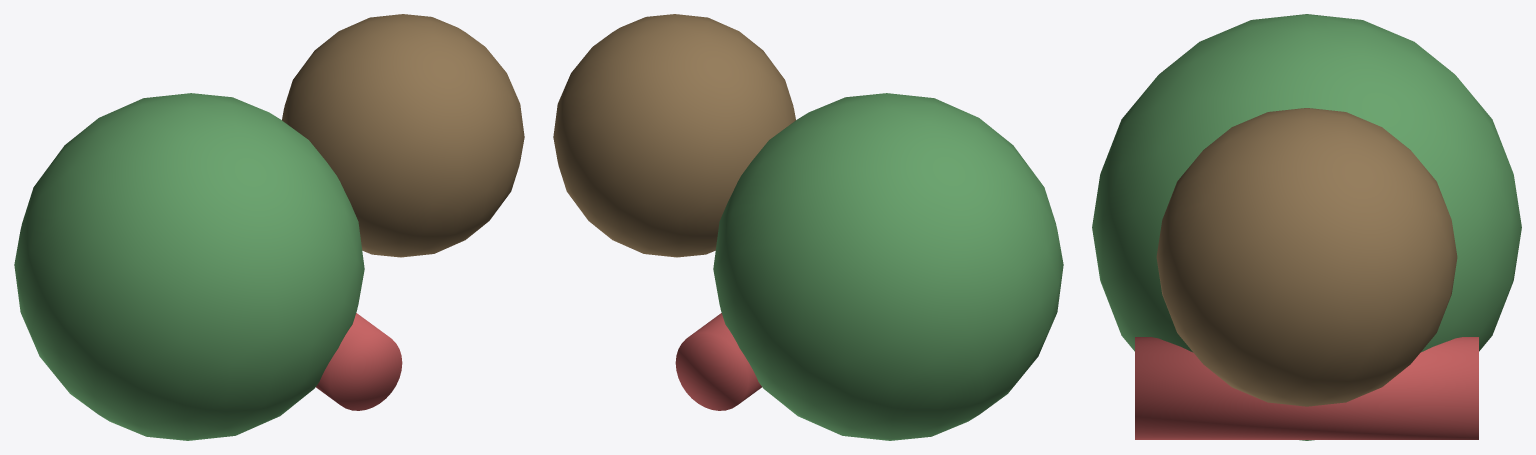
Rendered from zovix_ultimate_a032fa43.glb.
The picture shows the model from 3 angles, left to right: view 1: azimuth 30°, elevation 25°; view 2: azimuth 150°, elevation 25°; view 3: azimuth 270°, elevation 25°; orthographic projection. The views are drawn at different scales.
Parts seen in each view (by area): view 1: world; view 2: world; view 3: world.
Part boxes in pixels (x1,y1,x2,y2): world: [14, 14, 524, 440]; world: [553, 14, 1063, 440]; world: [1092, 14, 1521, 440].
Bounding box in the file's own units: 1.55 × 1.1 × 1.
